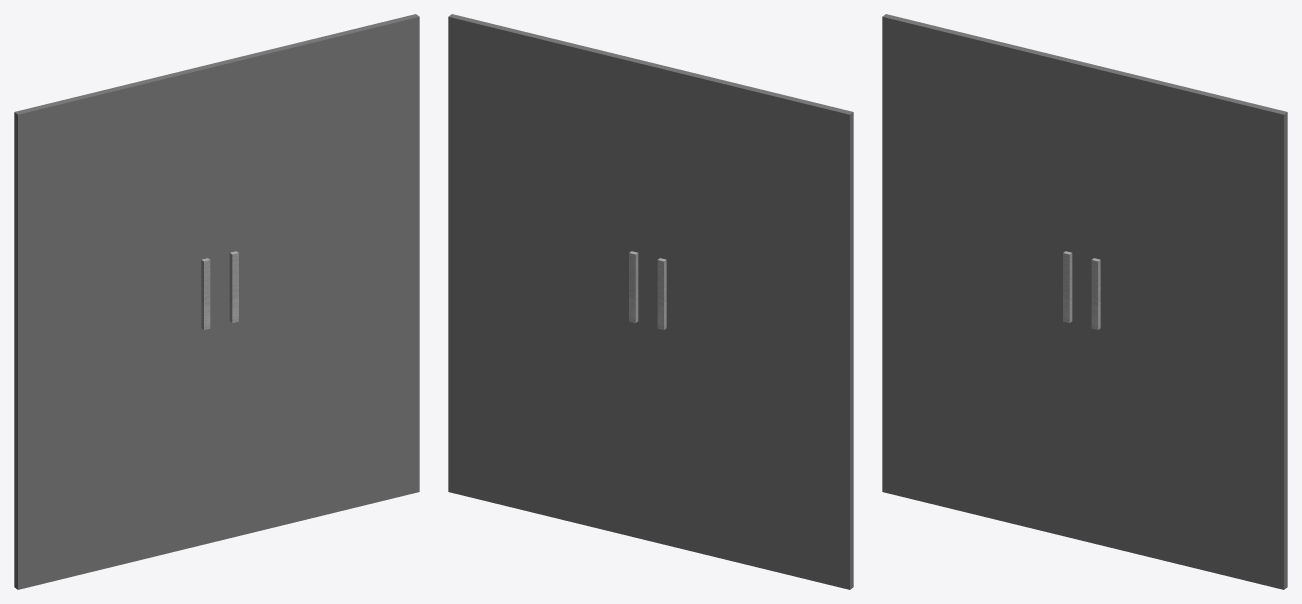
Rendered from PortaPrincipal.fbx.
3 views of the same model, side by side, from view 1: azimuth 30°, elevation 25°; view 2: azimuth 150°, elevation 25°; view 3: azimuth 330°, elevation 25° (orthographic).
Visible parts, largest first — view 1: group_ 3.031, group_ 2.063, group_ 7.007, group_ 6.010; view 2: group_ 3.031, group_ 2.063, group_ 5.017, group_ 4.017; view 3: group_ 2.063, group_ 3.031, group_ 6.010, group_ 7.007.
Boxes of the visible parts, bbox=[...] form: group_ 3.031: bbox=[14, 63, 218, 589]; group_ 2.063: bbox=[215, 14, 419, 540]; group_ 7.007: bbox=[201, 258, 210, 329]; group_ 6.010: bbox=[229, 251, 238, 322]; group_ 3.031: bbox=[649, 63, 853, 589]; group_ 2.063: bbox=[448, 14, 652, 540]; group_ 5.017: bbox=[657, 258, 666, 329]; group_ 4.017: bbox=[629, 251, 638, 322]; group_ 2.063: bbox=[1083, 63, 1287, 589]; group_ 3.031: bbox=[882, 14, 1086, 540]; group_ 6.010: bbox=[1091, 258, 1100, 329]; group_ 7.007: bbox=[1063, 251, 1072, 322].
Bounding box in the file's own units: 1.84 × 2.08 × 0.07.
Materials: 2 (1 with a texture image).
